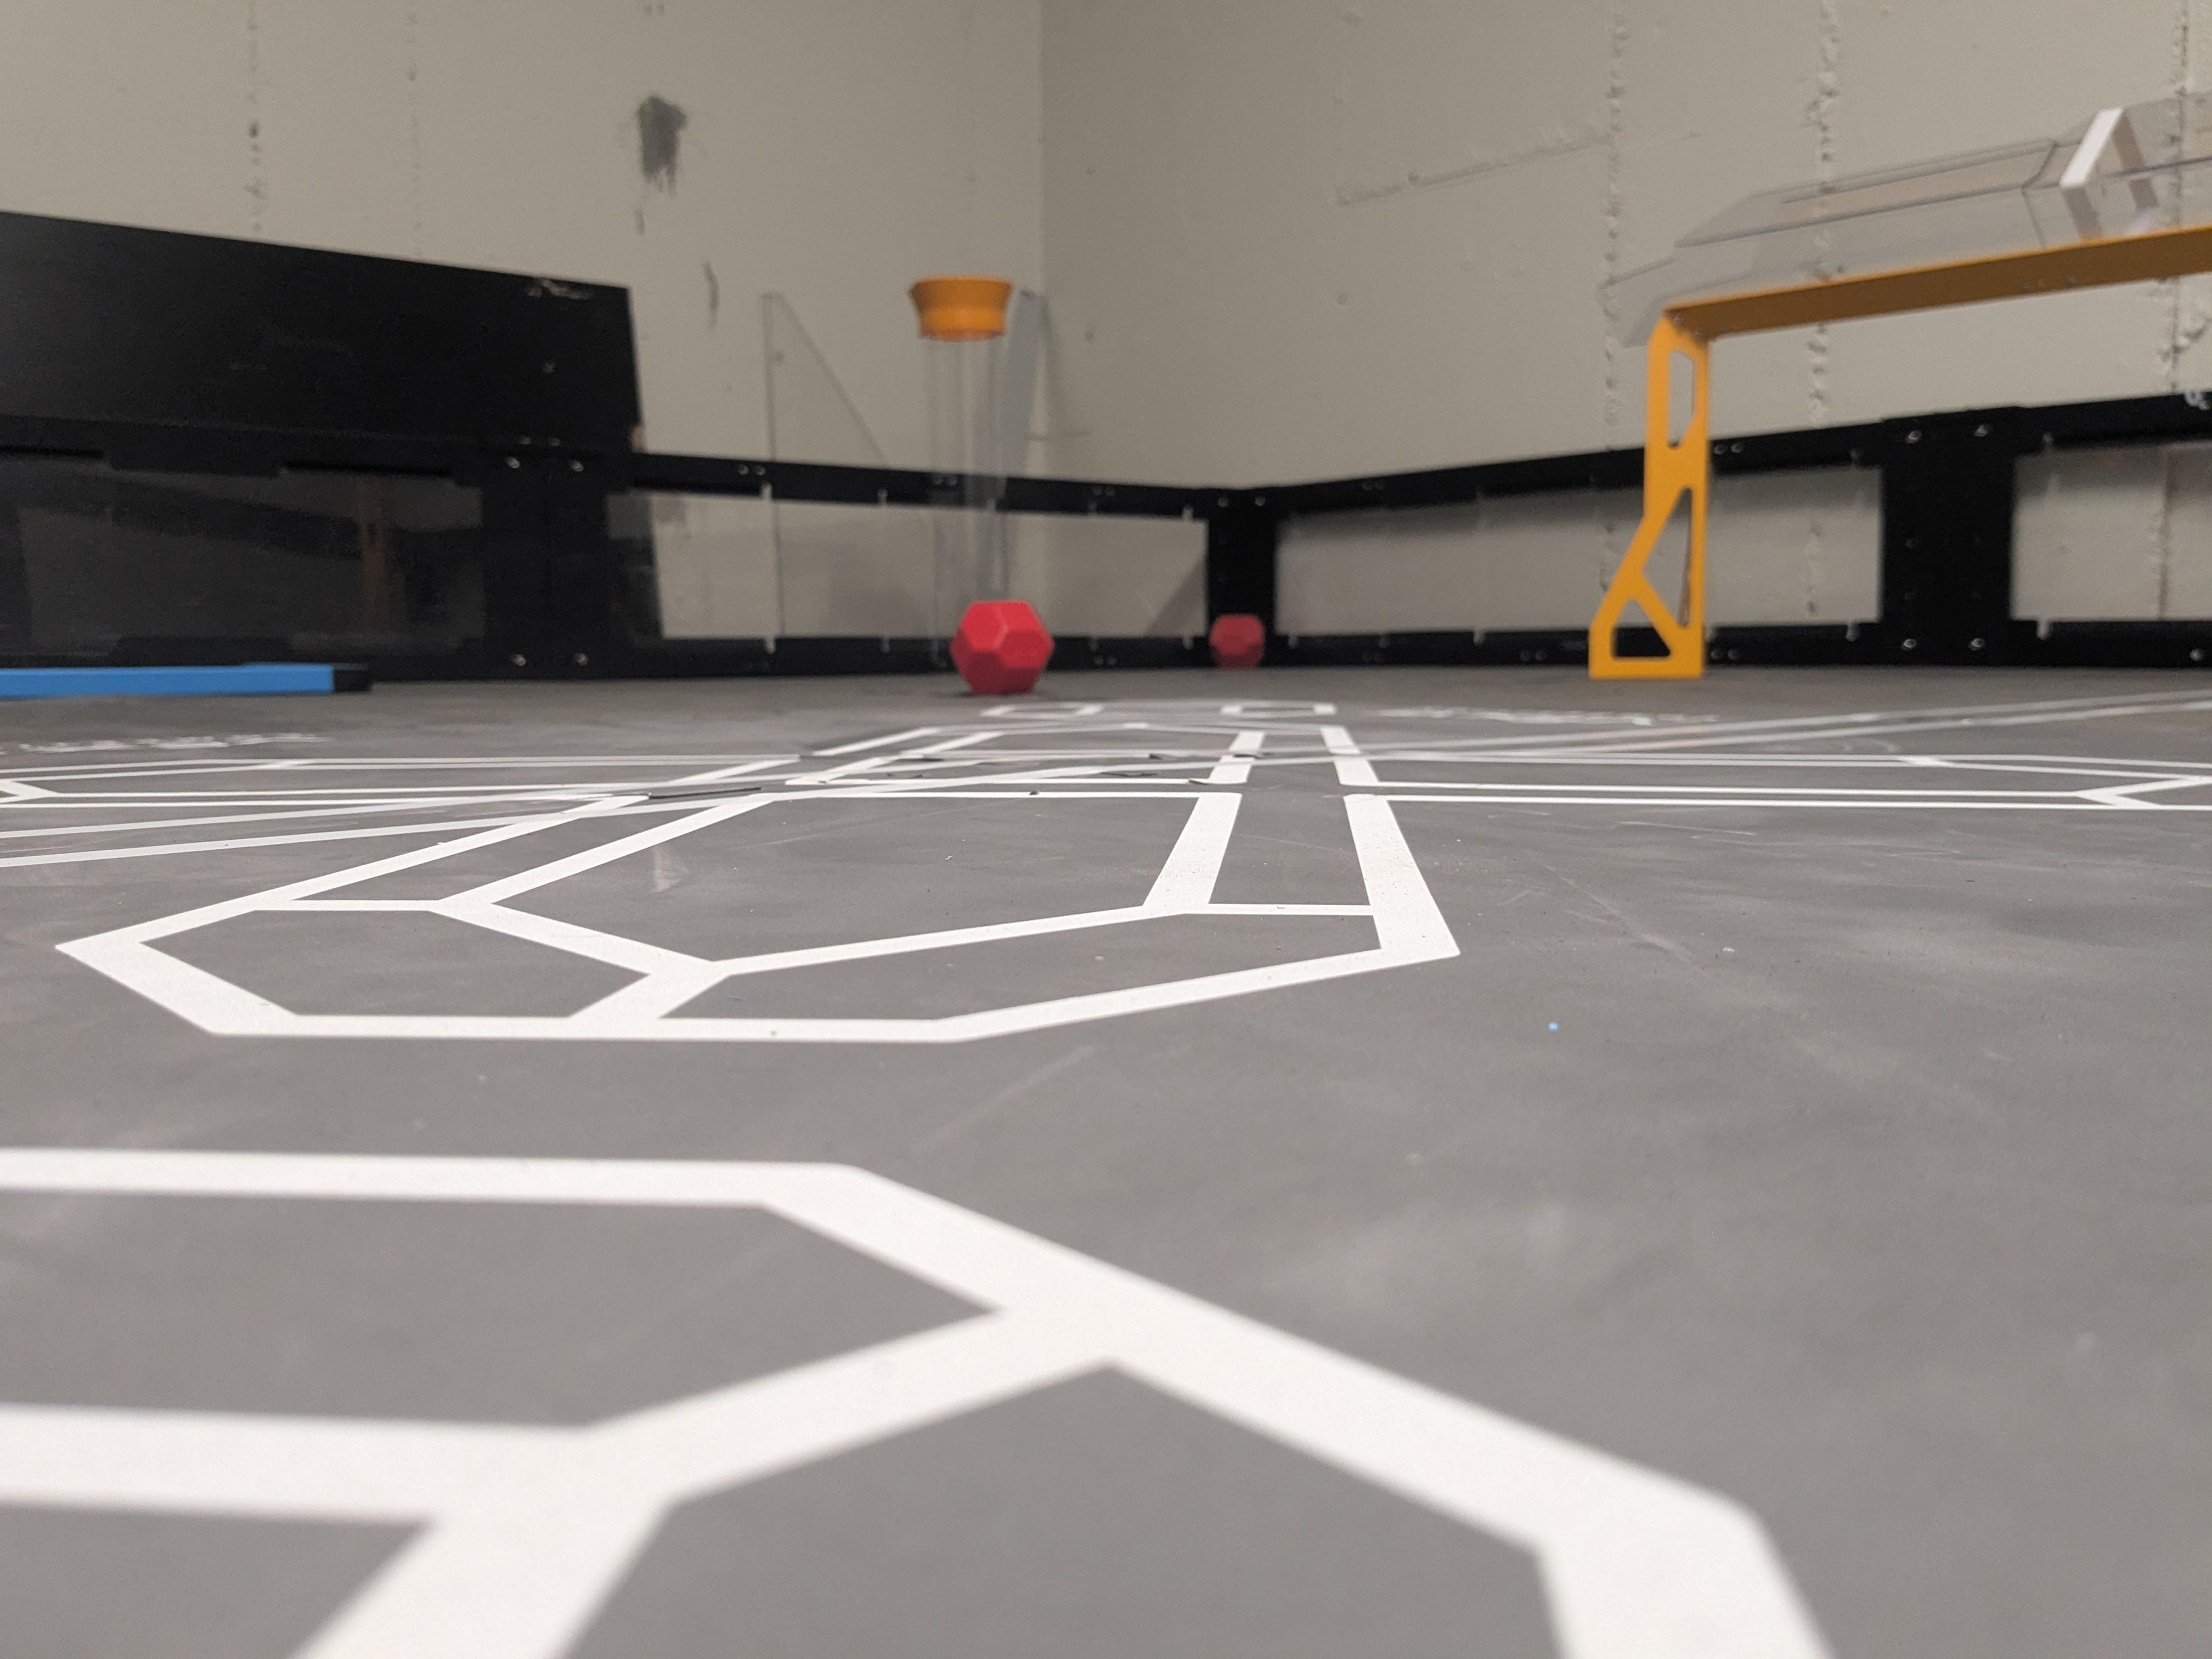Vex-Pieces-RED: (951, 599, 1052, 695), (1209, 613, 1264, 667)
